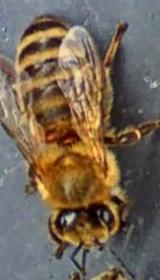varroa_mite: (28, 121, 88, 151)
